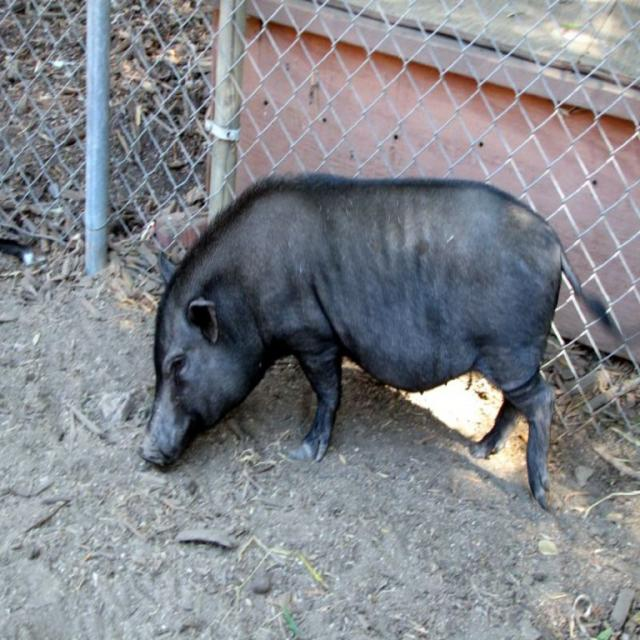Pig: (136, 171, 630, 512)
